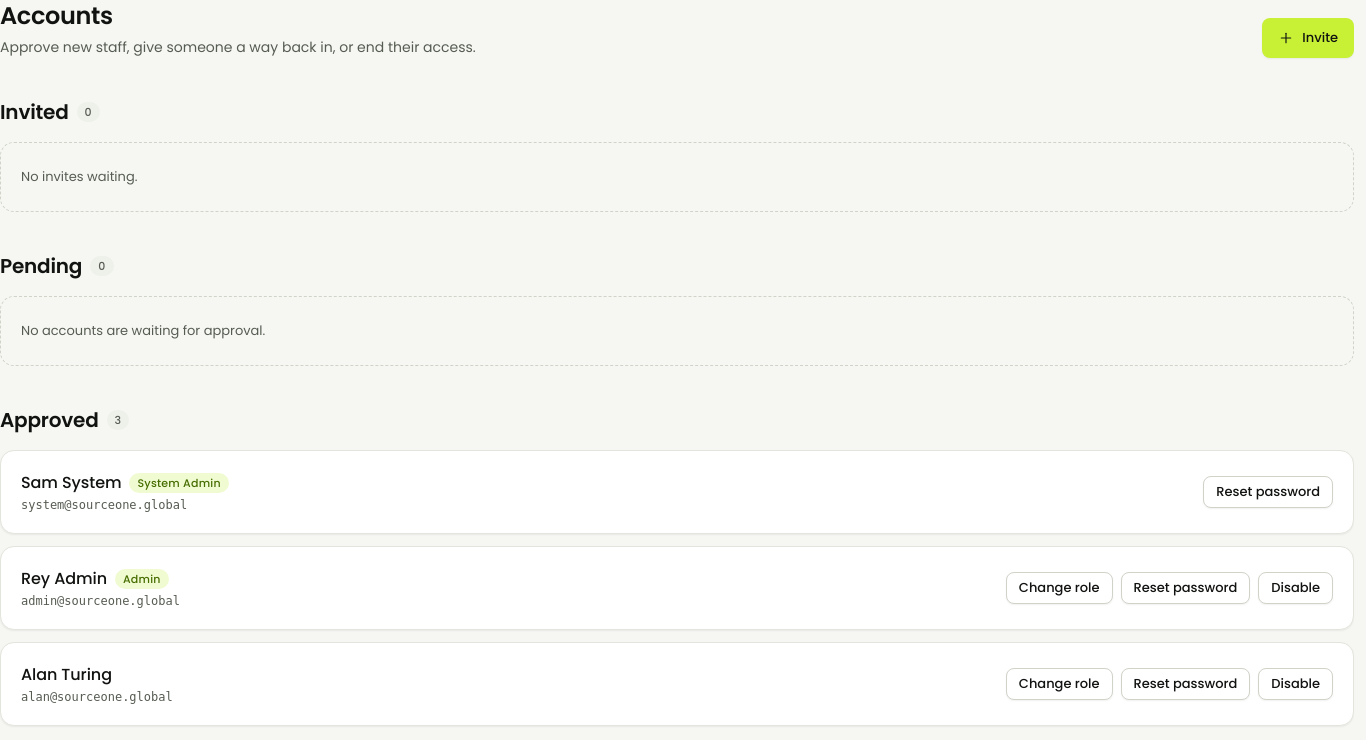
Test: AccountsPage › lets a System Admin make staff an admin, and says so
Click the button "Change role" in the row of "Alan Turing": (1059, 684) [1006,668,1112,700]
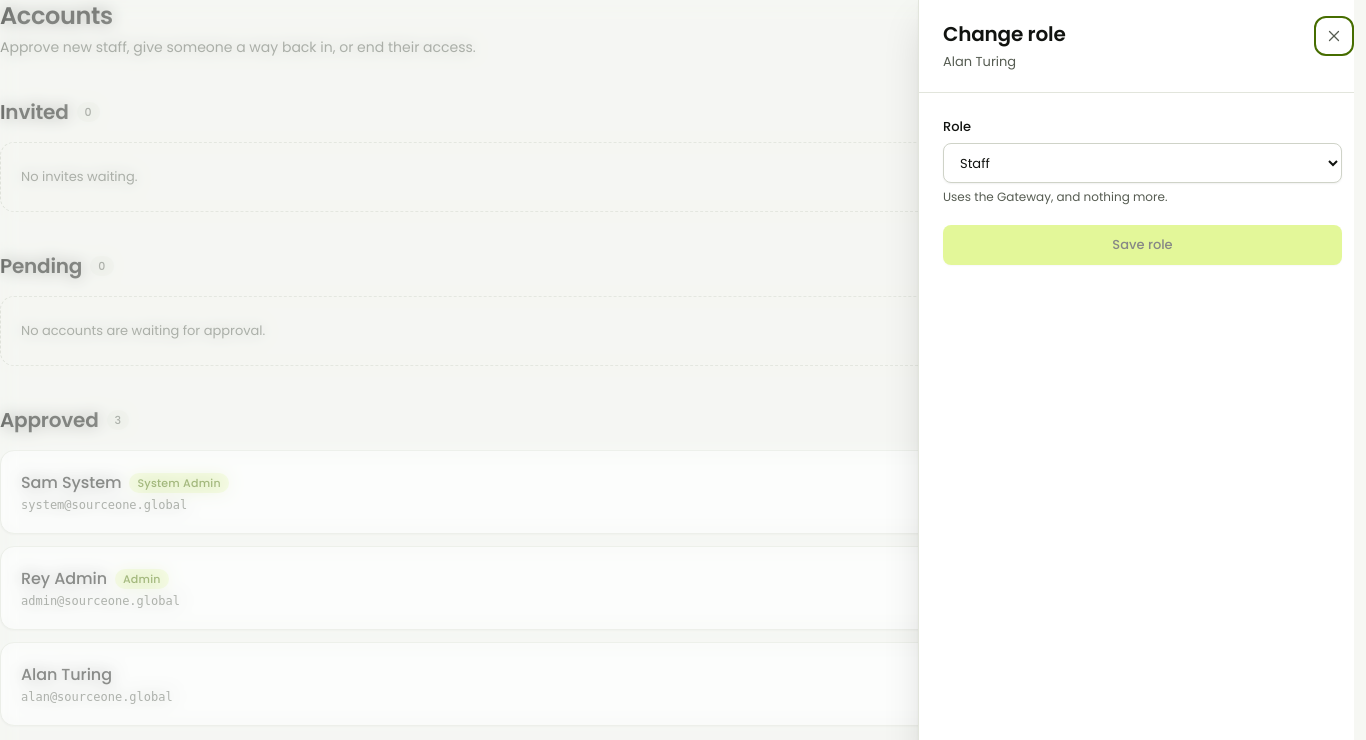
expect the button "Save role" is disabled: met, box [943,225,1342,265]
Select "Admin" in the dropdown labelled "Role": (1142, 163) [943,143,1342,183]
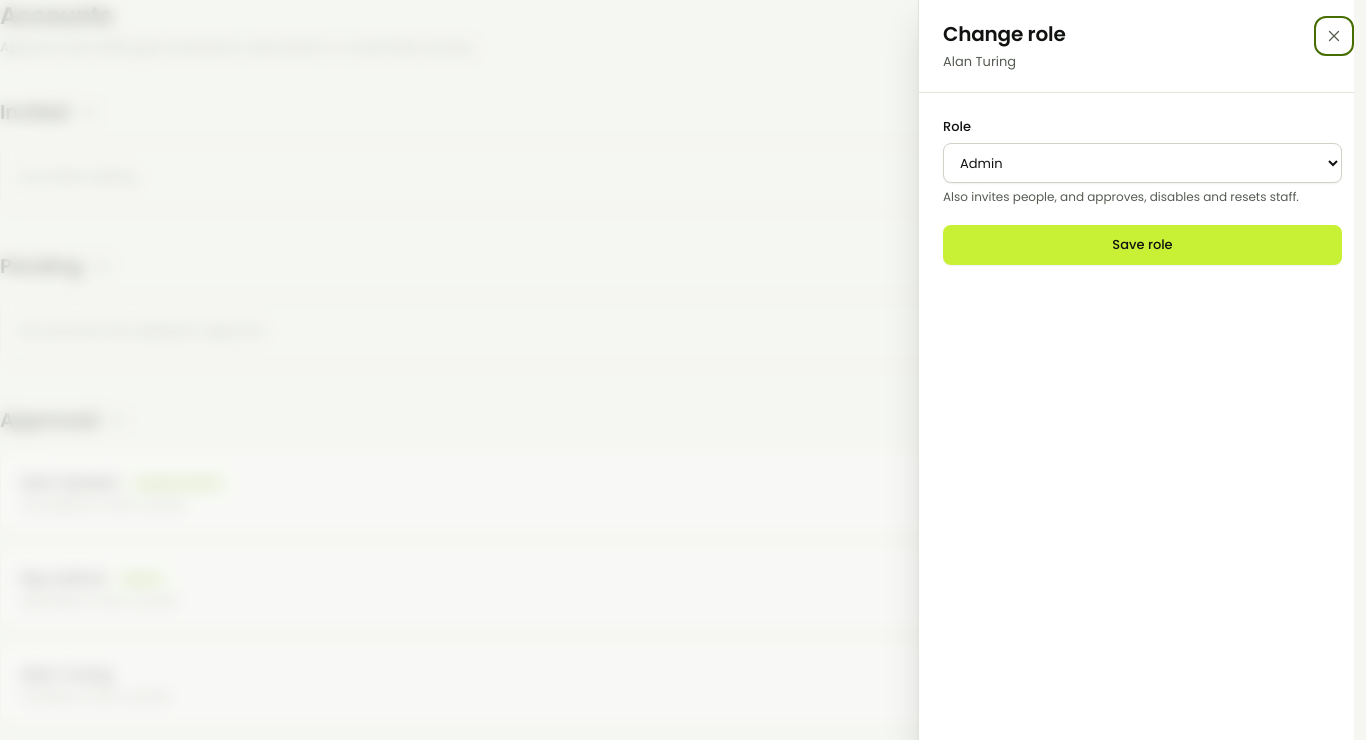
expect the text "Also invites people, and approves, disables and resets staff." is shown: met, box [943,189,1342,205]
Click the button "Save role": (1142, 245) [943,225,1342,265]
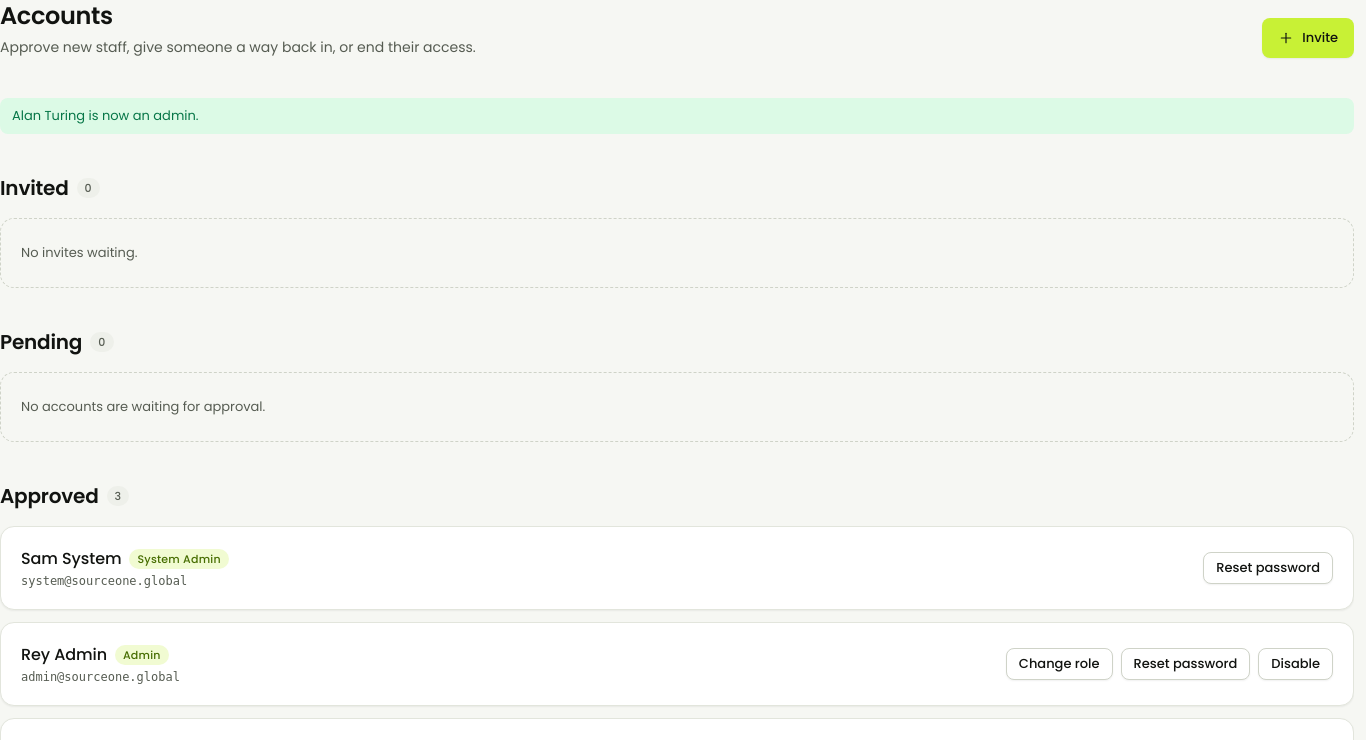
expect the text "Alan Turing is now an admin." is shown: met, box [0,98,1354,134]
